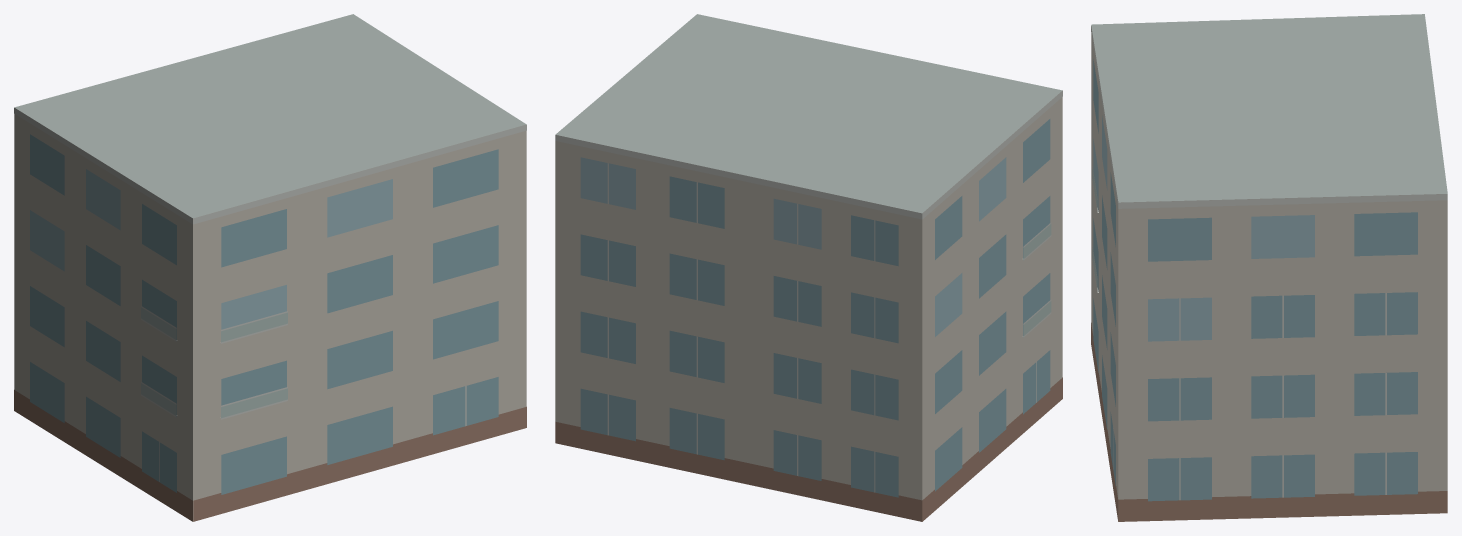
The model's file is survey-upis-32737186.glb.
The picture shows the model from 3 angles, left to right: view 1: azimuth 30°, elevation 25°; view 2: azimuth 150°, elevation 25°; view 3: azimuth 270°, elevation 25°; orthographic projection. The views are drawn at different scales.
Visible parts, largest first — view 1: survey-upis-32737186.tmp; view 2: survey-upis-32737186.tmp; view 3: survey-upis-32737186.tmp.
Boxes of the visible parts, left/top/right/bottom form: survey-upis-32737186.tmp: left=14, top=14, right=526, bottom=521; survey-upis-32737186.tmp: left=555, top=14, right=1062, bottom=521; survey-upis-32737186.tmp: left=1091, top=14, right=1447, bottom=521.
Bounding box in the file's own units: 15.45 × 12.2 × 12.36.
